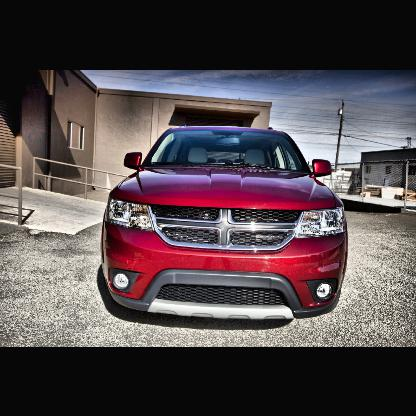Dodge Journey SUV 2012: (102, 127, 349, 323)
